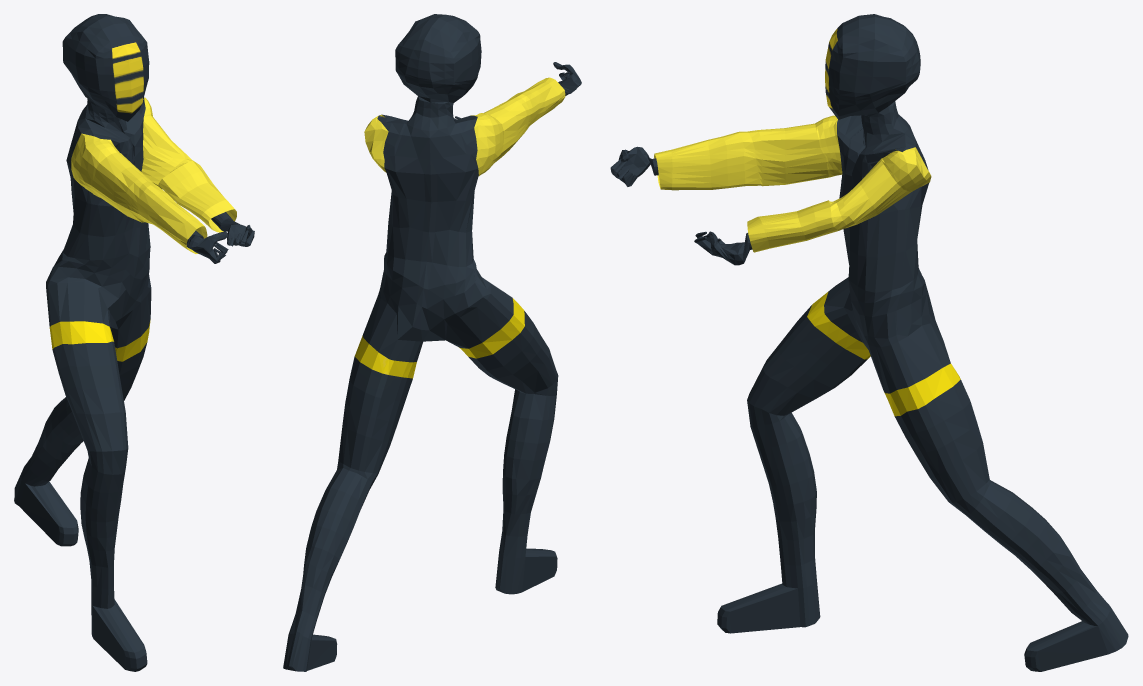
File: Sentry_Attack_000029.obj
3 renders of one model, left to right at view 1: azimuth 30°, elevation 25°; view 2: azimuth 150°, elevation 25°; view 3: azimuth 270°, elevation 25°, orthographic. The views are drawn at different scales.
Parts seen in each view (by area): view 1: Cube; view 2: Cube; view 3: Cube.
Boxes of the visible parts, box(x1,y1,x2,y2) form: Cube: box(14, 14, 254, 671); Cube: box(283, 14, 581, 671); Cube: box(610, 14, 1128, 671).
Bounding box in the file's own units: 0.9782 × 3.72 × 2.76.
